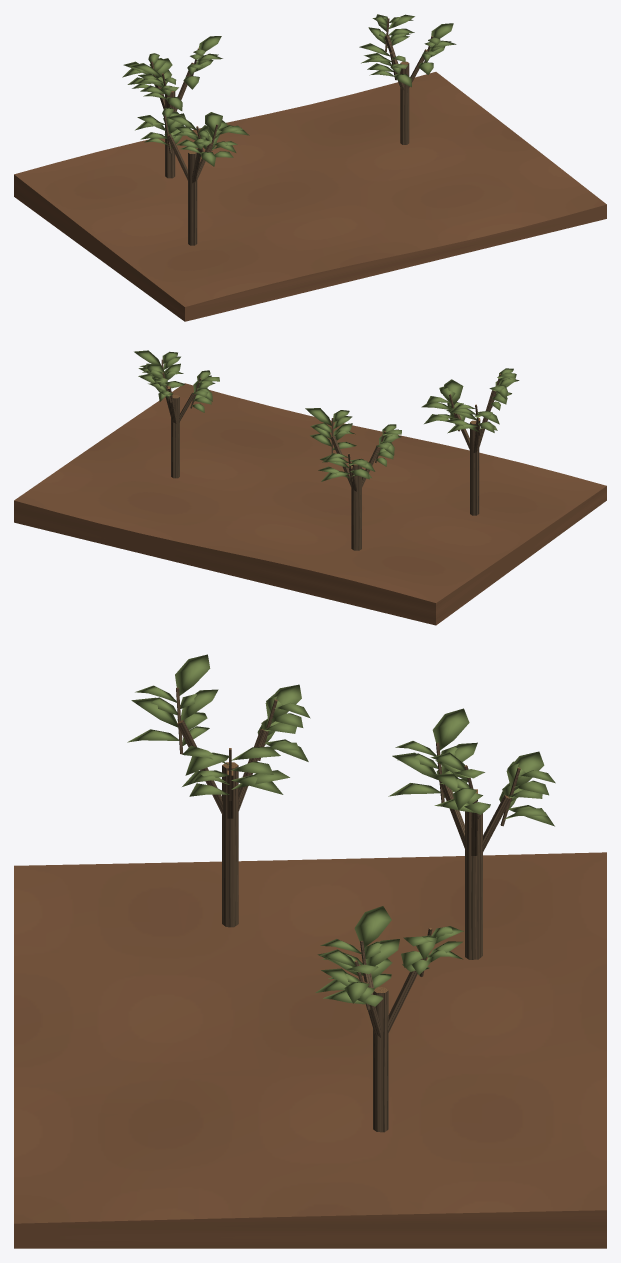
3 renders of one model, top to bottom at view 1: azimuth 30°, elevation 25°; view 2: azimuth 150°, elevation 25°; view 3: azimuth 270°, elevation 25°, orthographic. The views are drawn at different scales.
Visible parts, largest first — view 1: yaren; view 2: yaren; view 3: yaren.
Boxes of the visible parts, left/top/right/bottom form: yaren: left=14, top=14, right=606, bottom=321; yaren: left=14, top=350, right=606, bottom=625; yaren: left=14, top=654, right=606, bottom=1248.
Bounding box in the file's own units: 7.43 × 2.6 × 5.21.
Materials: 1 (1 with a texture image).
